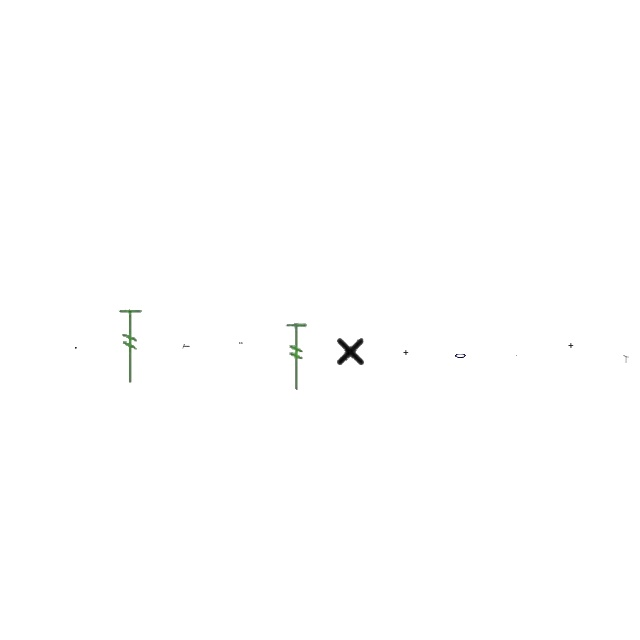chain: (454, 352, 468, 360), (239, 342, 243, 344), (75, 347, 77, 349), (515, 356, 517, 356)
double: (334, 334, 368, 368), (403, 350, 409, 356), (568, 344, 574, 348)
enseble_chain: (182, 344, 190, 350), (623, 355, 629, 363)
fan: (116, 306, 146, 388), (284, 322, 308, 392)
